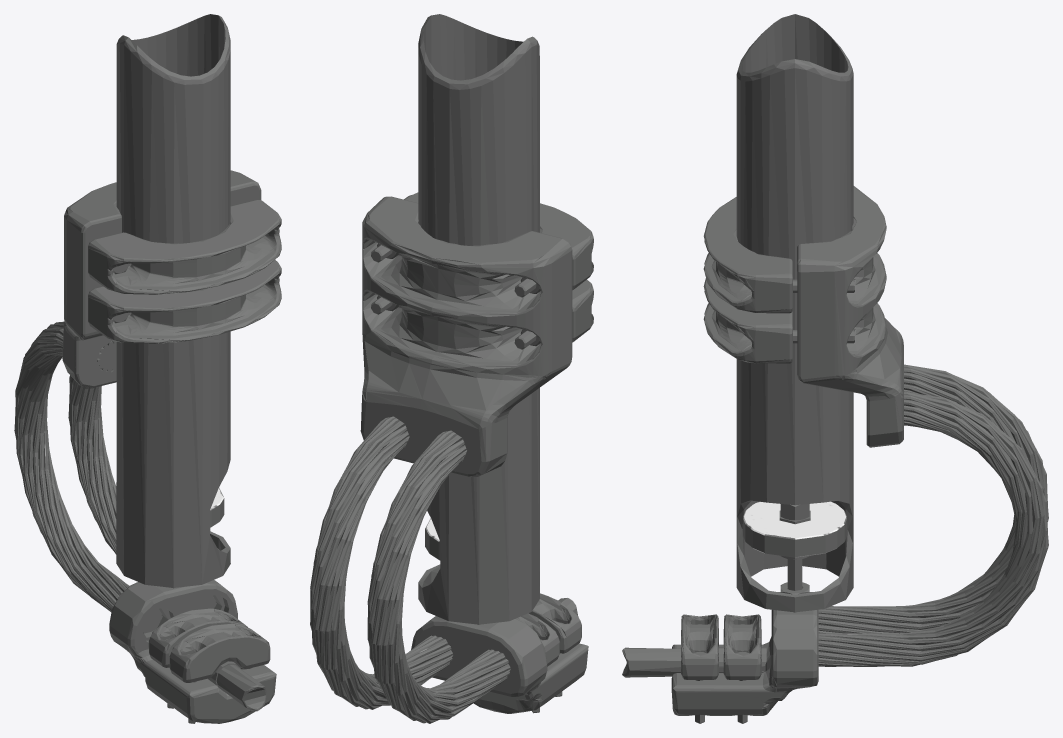
Rendered from flexible_90_tubo_pin9.gltf.
3 views of the same model, side by side, from view 1: azimuth 30°, elevation 25°; view 2: azimuth 150°, elevation 25°; view 3: azimuth 270°, elevation 25° (orthographic). The views are drawn at different scales.
Parts seen in each view (by area): view 1: Gt7Sj3Sa; view 2: Gt7Sj3Sa; view 3: Gt7Sj3Sa.
Part boxes in pixels (x1,y1,x2,y2): Gt7Sj3Sa: (14, 14, 281, 723); Gt7Sj3Sa: (310, 14, 593, 723); Gt7Sj3Sa: (622, 14, 1048, 723).
Size of the model in its own units: 0.5506 by 1.92 by 1.11.
Materials: 1 (1 with a texture image).
